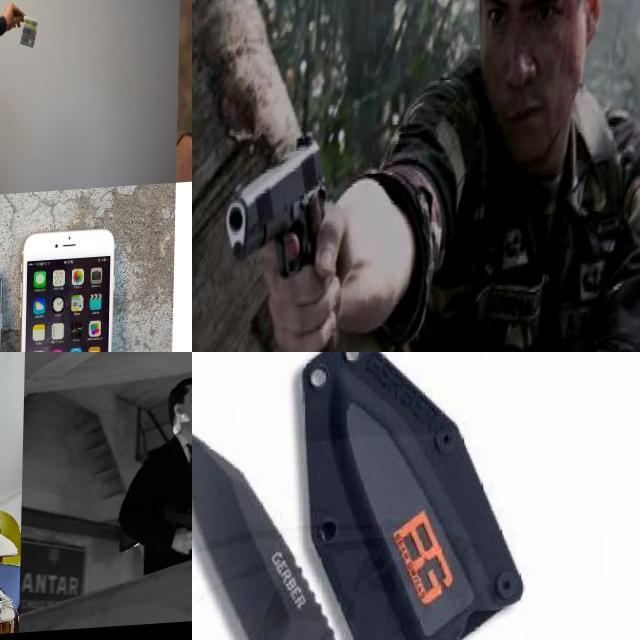-: (192, 417, 307, 640)
gun-knife-thesis - v11 Yolov5 augmented: (225, 113, 362, 352), (113, 497, 192, 574), (0, 484, 9, 518), (0, 352, 10, 369)
